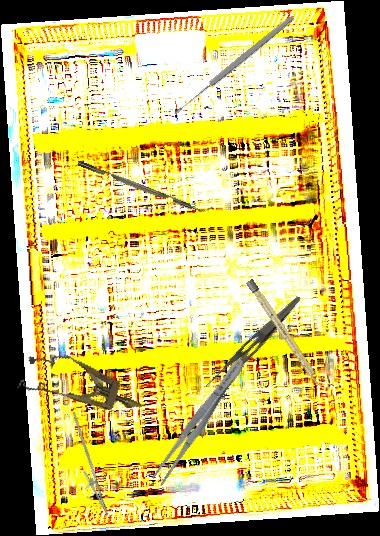Chopper: (76, 153, 214, 219)
Dressing Forceps: (149, 354, 250, 488), (204, 286, 302, 398)
Needle Holder: (53, 411, 121, 520)
Scalpel Handle: (245, 278, 325, 390)
Speculum: (16, 343, 150, 429)
Surgical Spoon: (171, 13, 297, 117)
